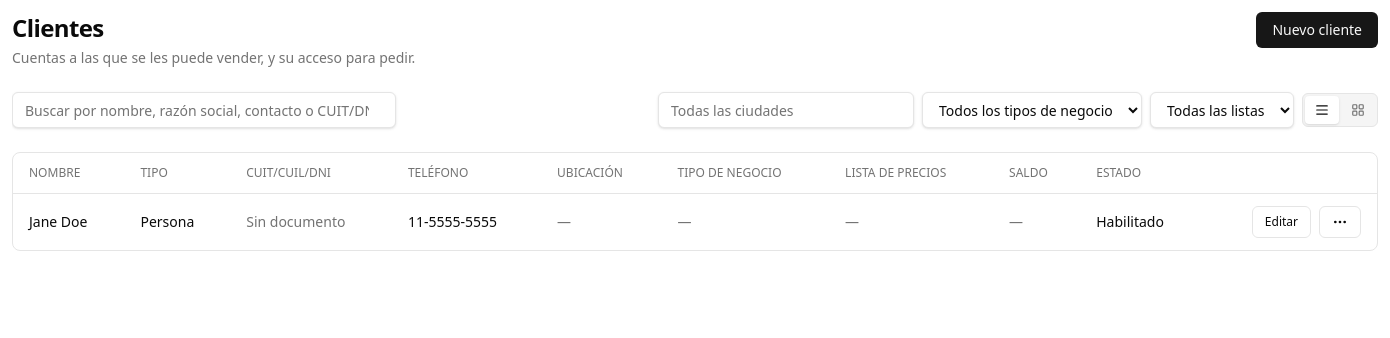
Test: CustomersScreen › still issues ordering access and shows the one-time credential
Expected: the text "Jane Doe" is shown, [13, 194, 124, 250]
Click the button named "Acciones de Jane Doe" at {"x": 1340, "y": 222}, box [1319, 206, 1361, 238]
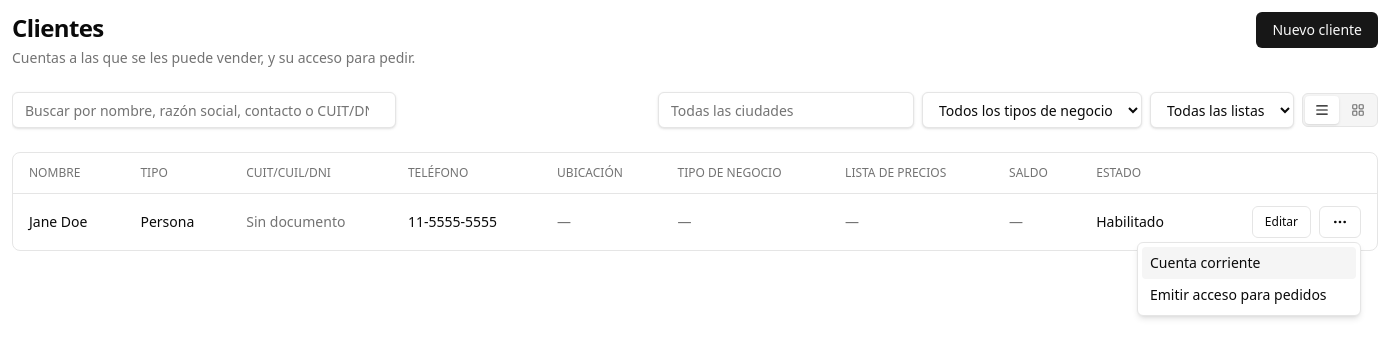
Click the menu item "Emitir acceso para pedidos" at {"x": 1249, "y": 295}, box [1142, 279, 1356, 311]
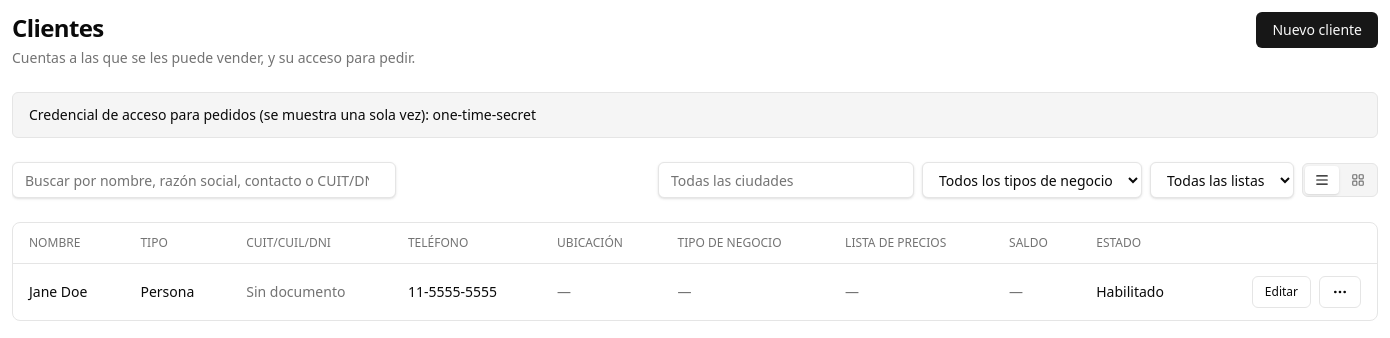
Now the text with test id "issued-credential" shows "one-time-secret", box [29, 105, 536, 124]
